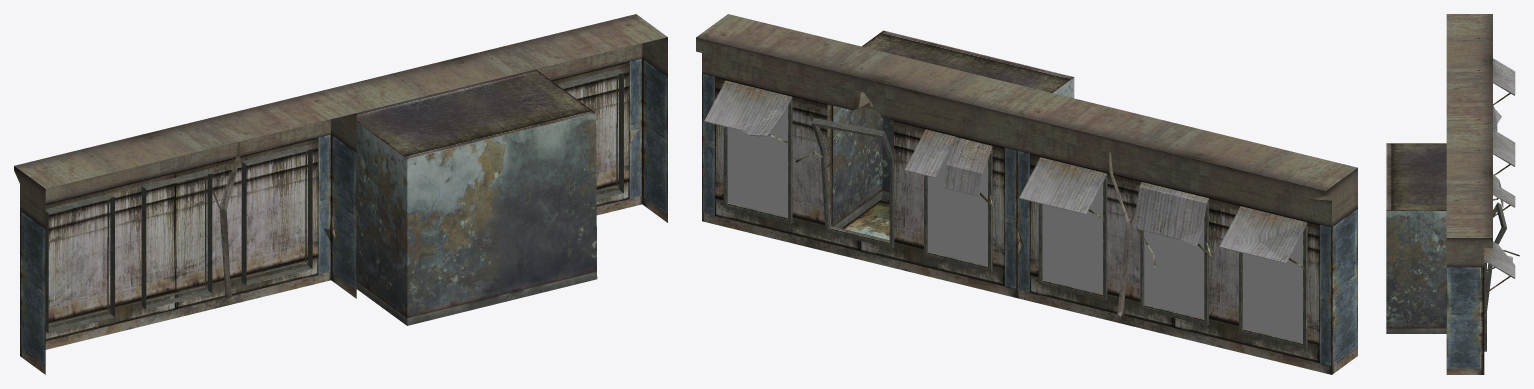
The model's file is Store_front_13_C.fbx.
The picture shows the model from 3 angles, left to right: view 1: azimuth 30°, elevation 25°; view 2: azimuth 150°, elevation 25°; view 3: azimuth 270°, elevation 25°; orthographic projection. The views are drawn at different scales.
Visible parts, largest first — view 1: Store_front_13_C; view 2: Store_front_13_C; view 3: Store_front_13_C.
Part boxes in pixels (<box>): Store_front_13_C: <box>14,14,667,374</box>; Store_front_13_C: <box>696,14,1357,374</box>; Store_front_13_C: <box>1386,14,1519,374</box>.
Size of the model in its own units: 1400 by 400 by 353.
